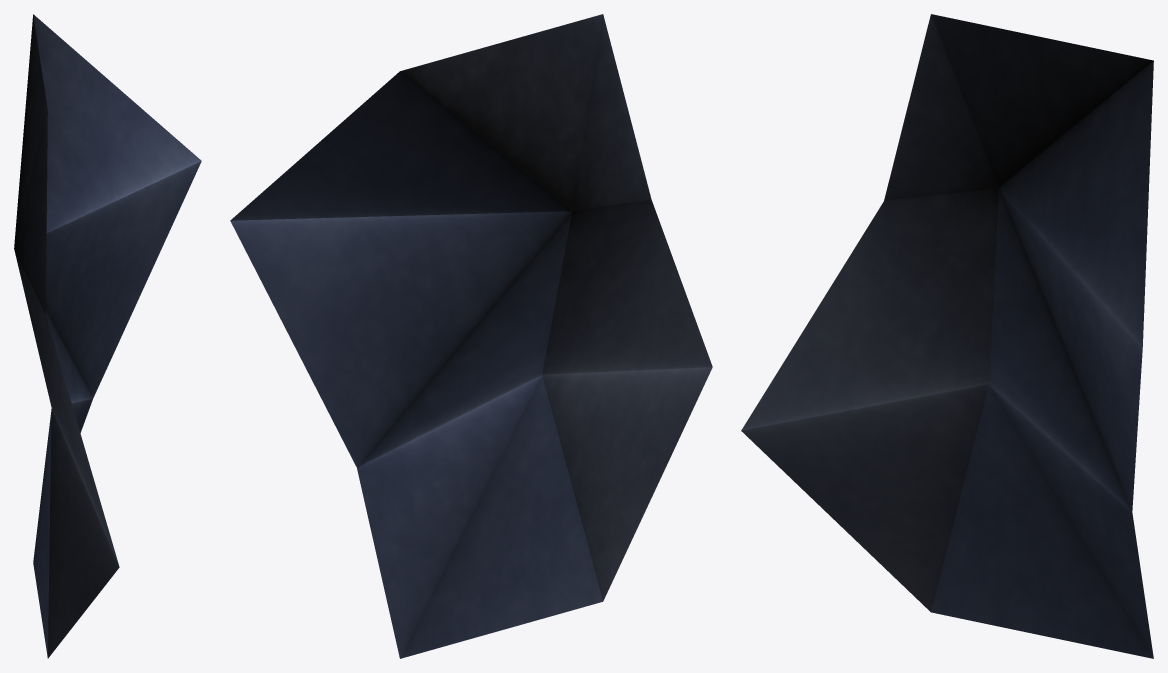
Rendered from SM_Wall_Edge_C_A.fbx.
The picture shows the model from 3 angles, left to right: view 1: azimuth 30°, elevation 25°; view 2: azimuth 150°, elevation 25°; view 3: azimuth 270°, elevation 25°; orthographic projection. The views are drawn at different scales.
Visible parts, largest first — view 1: pCube186; view 2: pCube186; view 3: pCube186.
Boxes of the visible parts, x1,y1,x2,y2 form: pCube186: [14, 14, 201, 658]; pCube186: [230, 14, 712, 658]; pCube186: [741, 14, 1153, 658].
Bounding box in the file's own units: 0.5239 × 1 × 0.6252.
